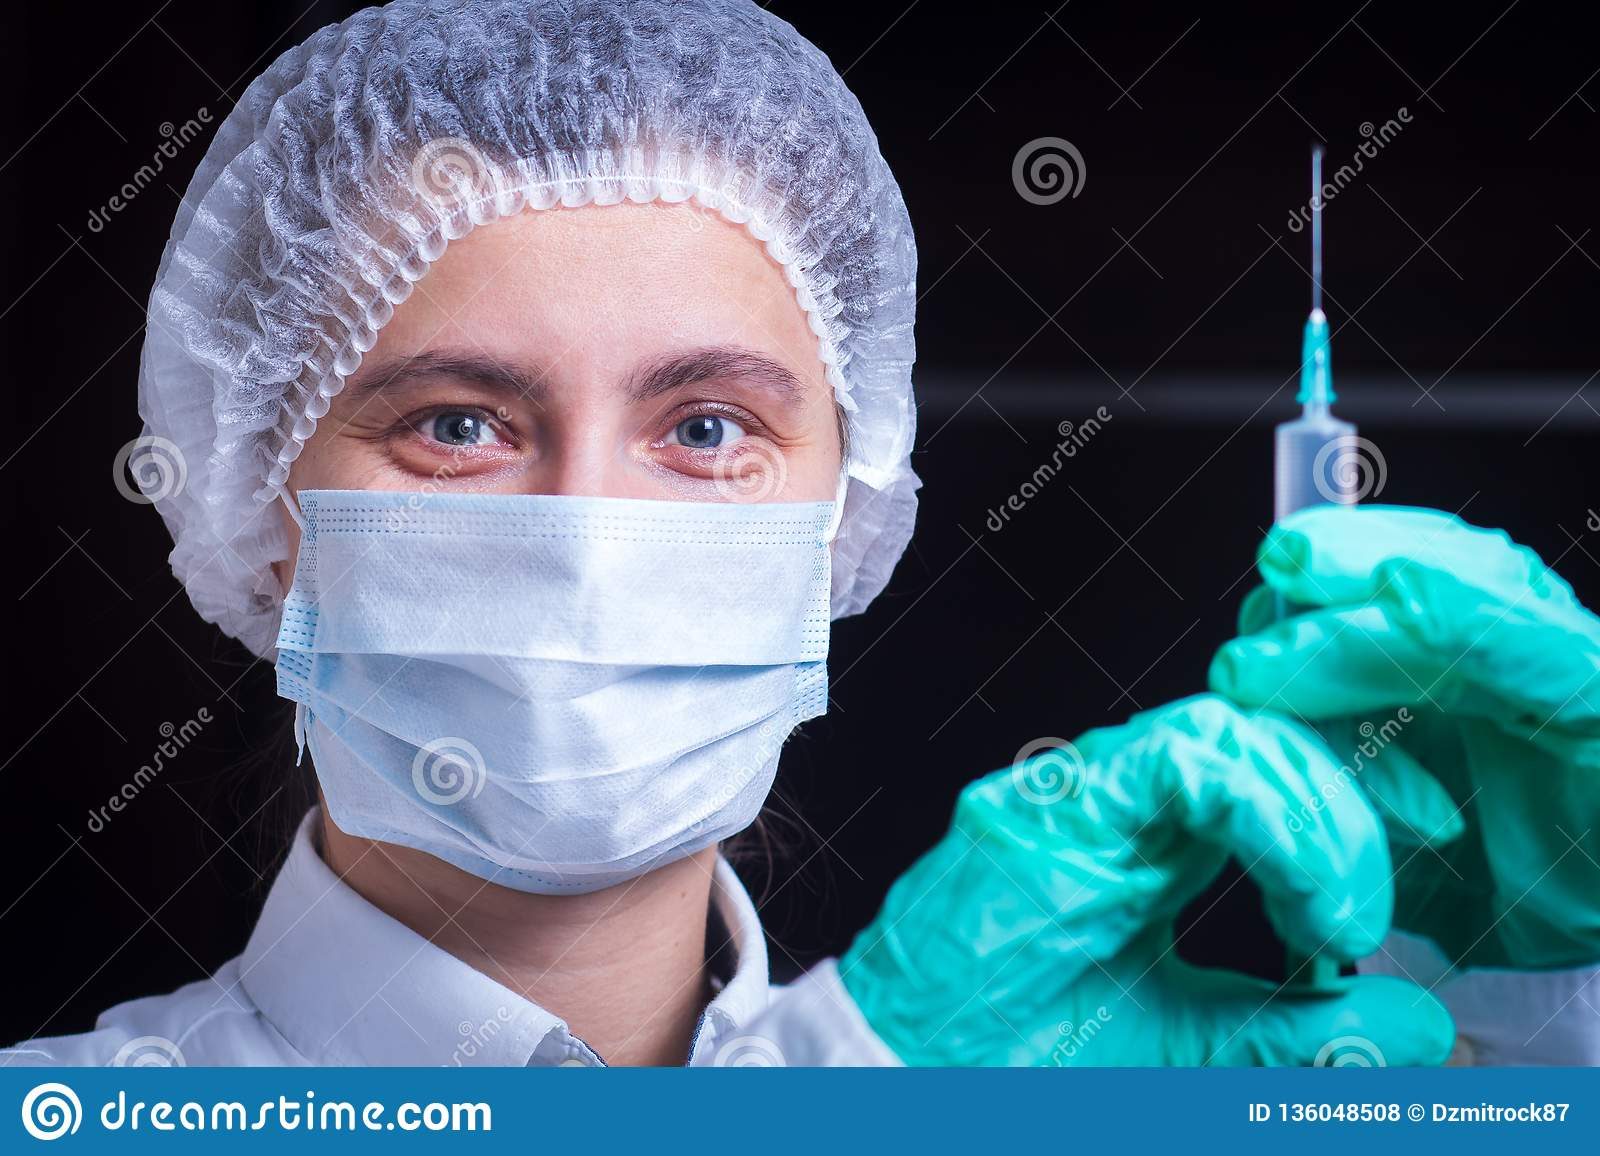mask: (275, 485, 835, 903)
